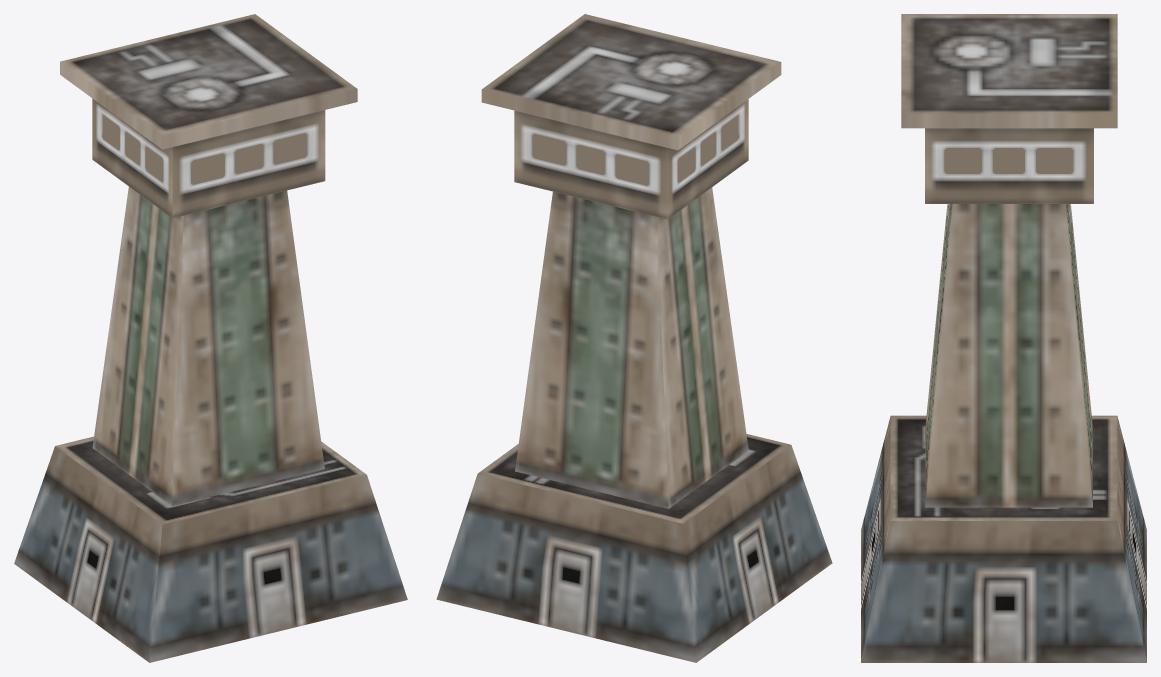
Rendered from lookouttower.glb.
The picture shows the model from 3 angles, left to right: view 1: azimuth 30°, elevation 25°; view 2: azimuth 150°, elevation 25°; view 3: azimuth 270°, elevation 25°; orthographic projection. The views are drawn at different scales.
Visible parts, largest first — view 1: LookoutTower, LitWin_LookoutTower; view 2: LookoutTower, LitWin_LookoutTower; view 3: LookoutTower, LitWin_LookoutTower.
Boxes of the visible parts, x1=… form: LookoutTower: x1=14, y1=14, x2=407, y2=662; LitWin_LookoutTower: x1=102, y1=115, x2=307, y2=184; LookoutTower: x1=436, y1=14, x2=832, y2=662; LitWin_LookoutTower: x1=532, y1=115, x2=738, y2=185; LookoutTower: x1=861, y1=14, x2=1146, y2=662; LitWin_LookoutTower: x1=944, y1=148, x2=1073, y2=173.
Bounding box in the file's own units: 7.99 × 14.91 × 7.26.
1 material, 1 textured.
